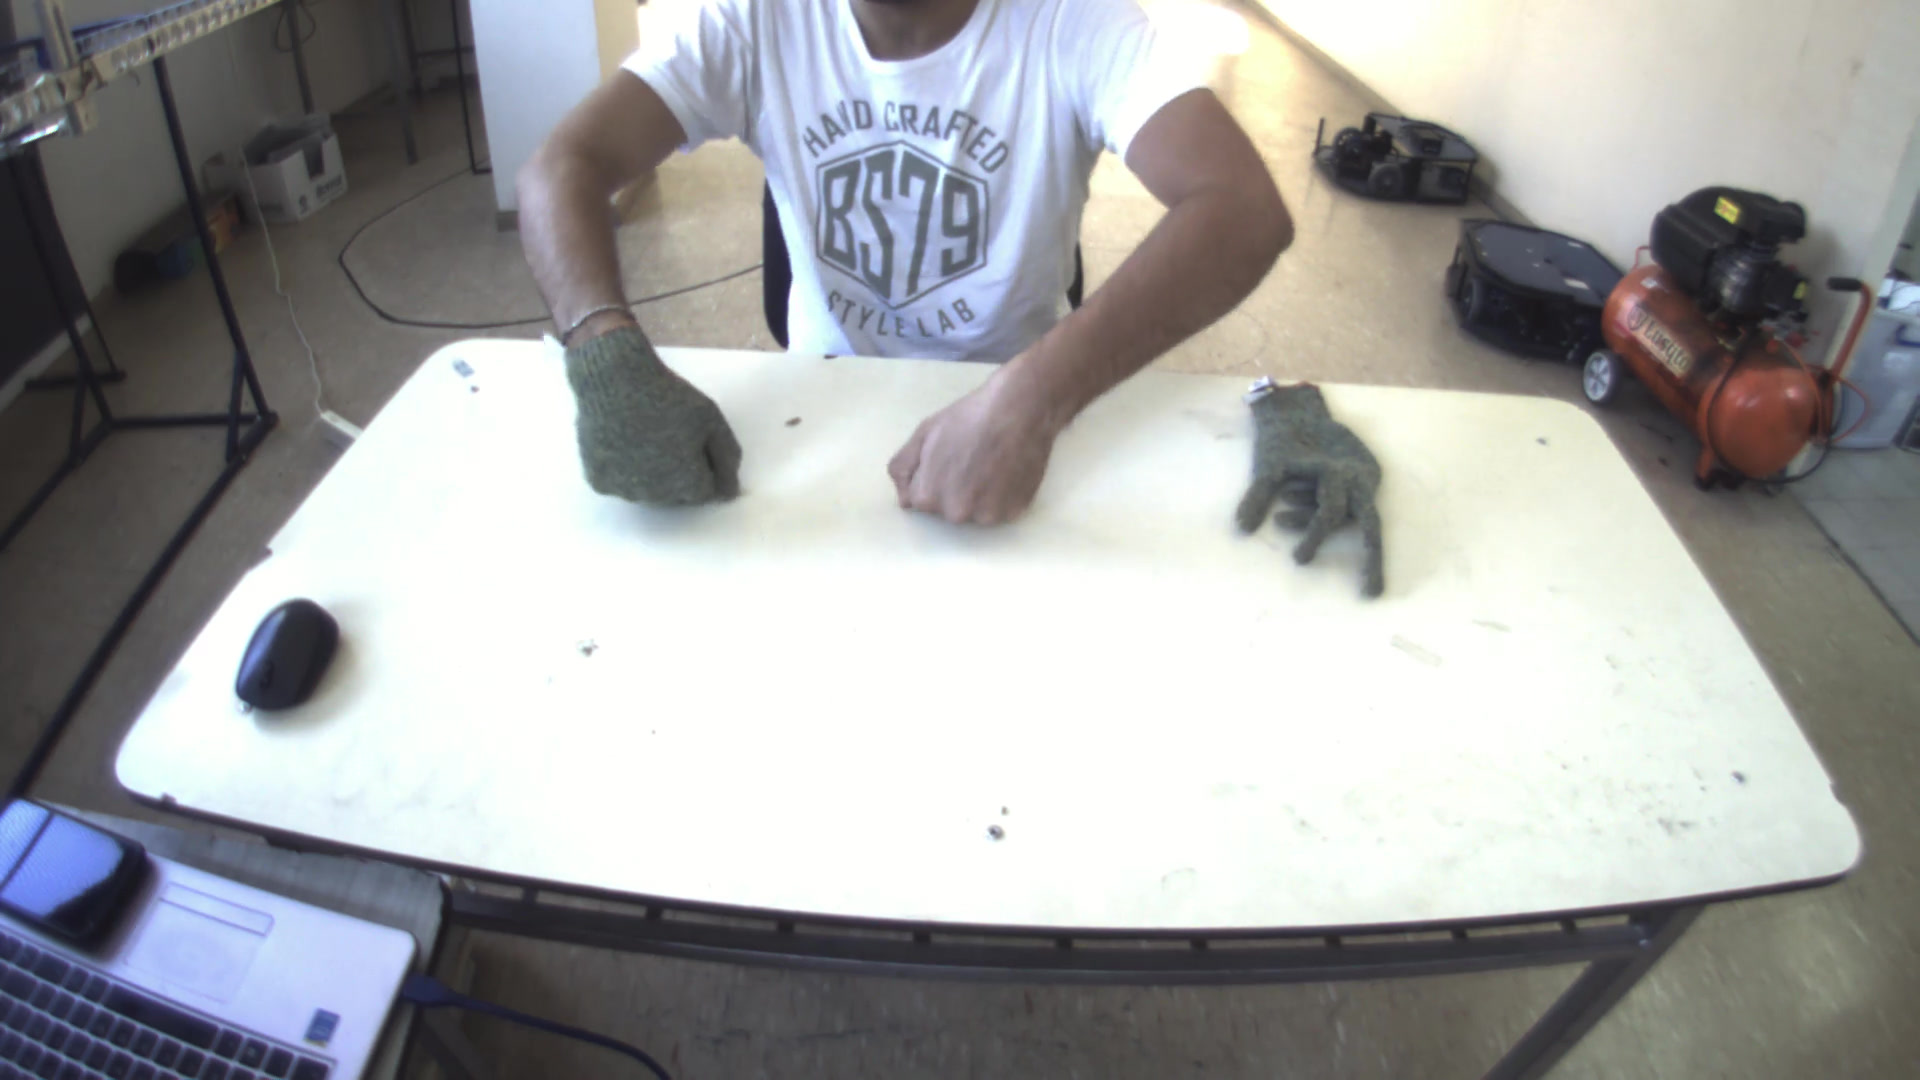hand: (554, 309, 746, 509), (887, 356, 1051, 527)
